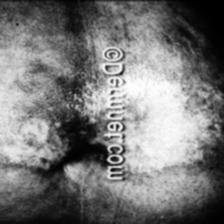Unclassified: (24, 114, 82, 168)
